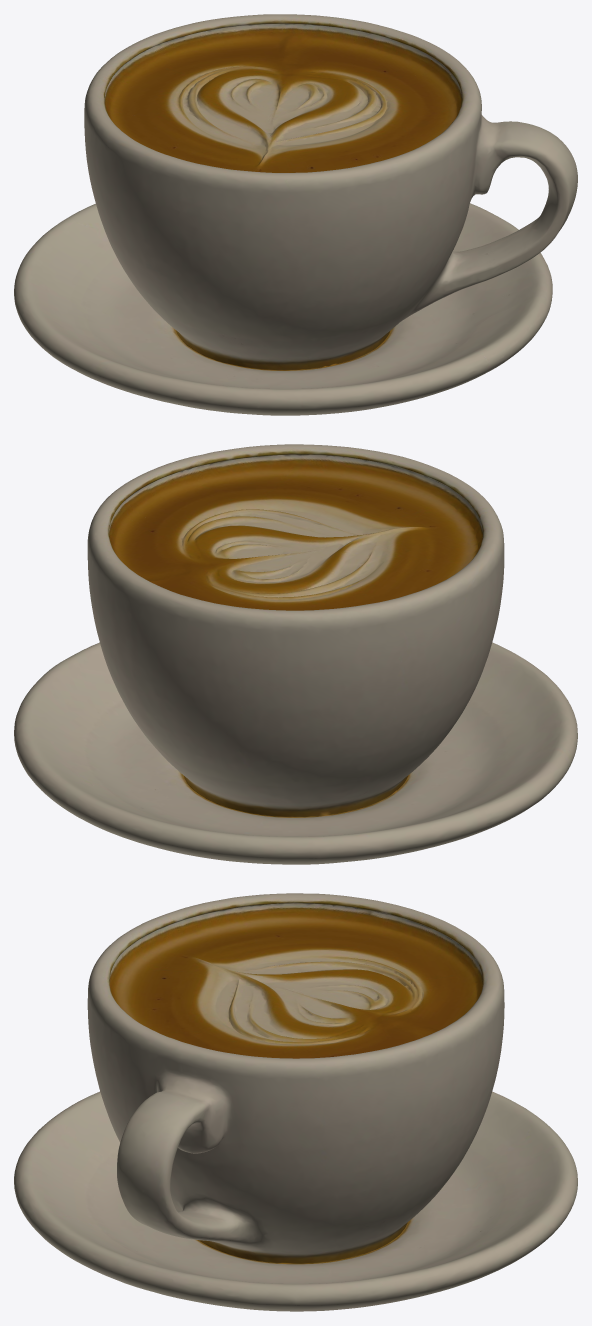
Rendered from coffee.glb.
3 views of the same model, one above another, from view 1: azimuth 30°, elevation 25°; view 2: azimuth 150°, elevation 25°; view 3: azimuth 270°, elevation 25° (orthographic). The views are drawn at different scales.
Visible parts, largest first — view 1: tripo_node_b07beef5-6654-4176-810d-34c19009c7cd; view 2: tripo_node_b07beef5-6654-4176-810d-34c19009c7cd; view 3: tripo_node_b07beef5-6654-4176-810d-34c19009c7cd.
Part boxes in pixels (left/top/right/bottom): tripo_node_b07beef5-6654-4176-810d-34c19009c7cd: left=14, top=14, right=577, bottom=415; tripo_node_b07beef5-6654-4176-810d-34c19009c7cd: left=14, top=444, right=577, bottom=864; tripo_node_b07beef5-6654-4176-810d-34c19009c7cd: left=14, top=893, right=577, bottom=1311.
Bounding box in the file's own units: 1 × 0.502 × 0.9967.
Materials: 1 (1 with a texture image).
